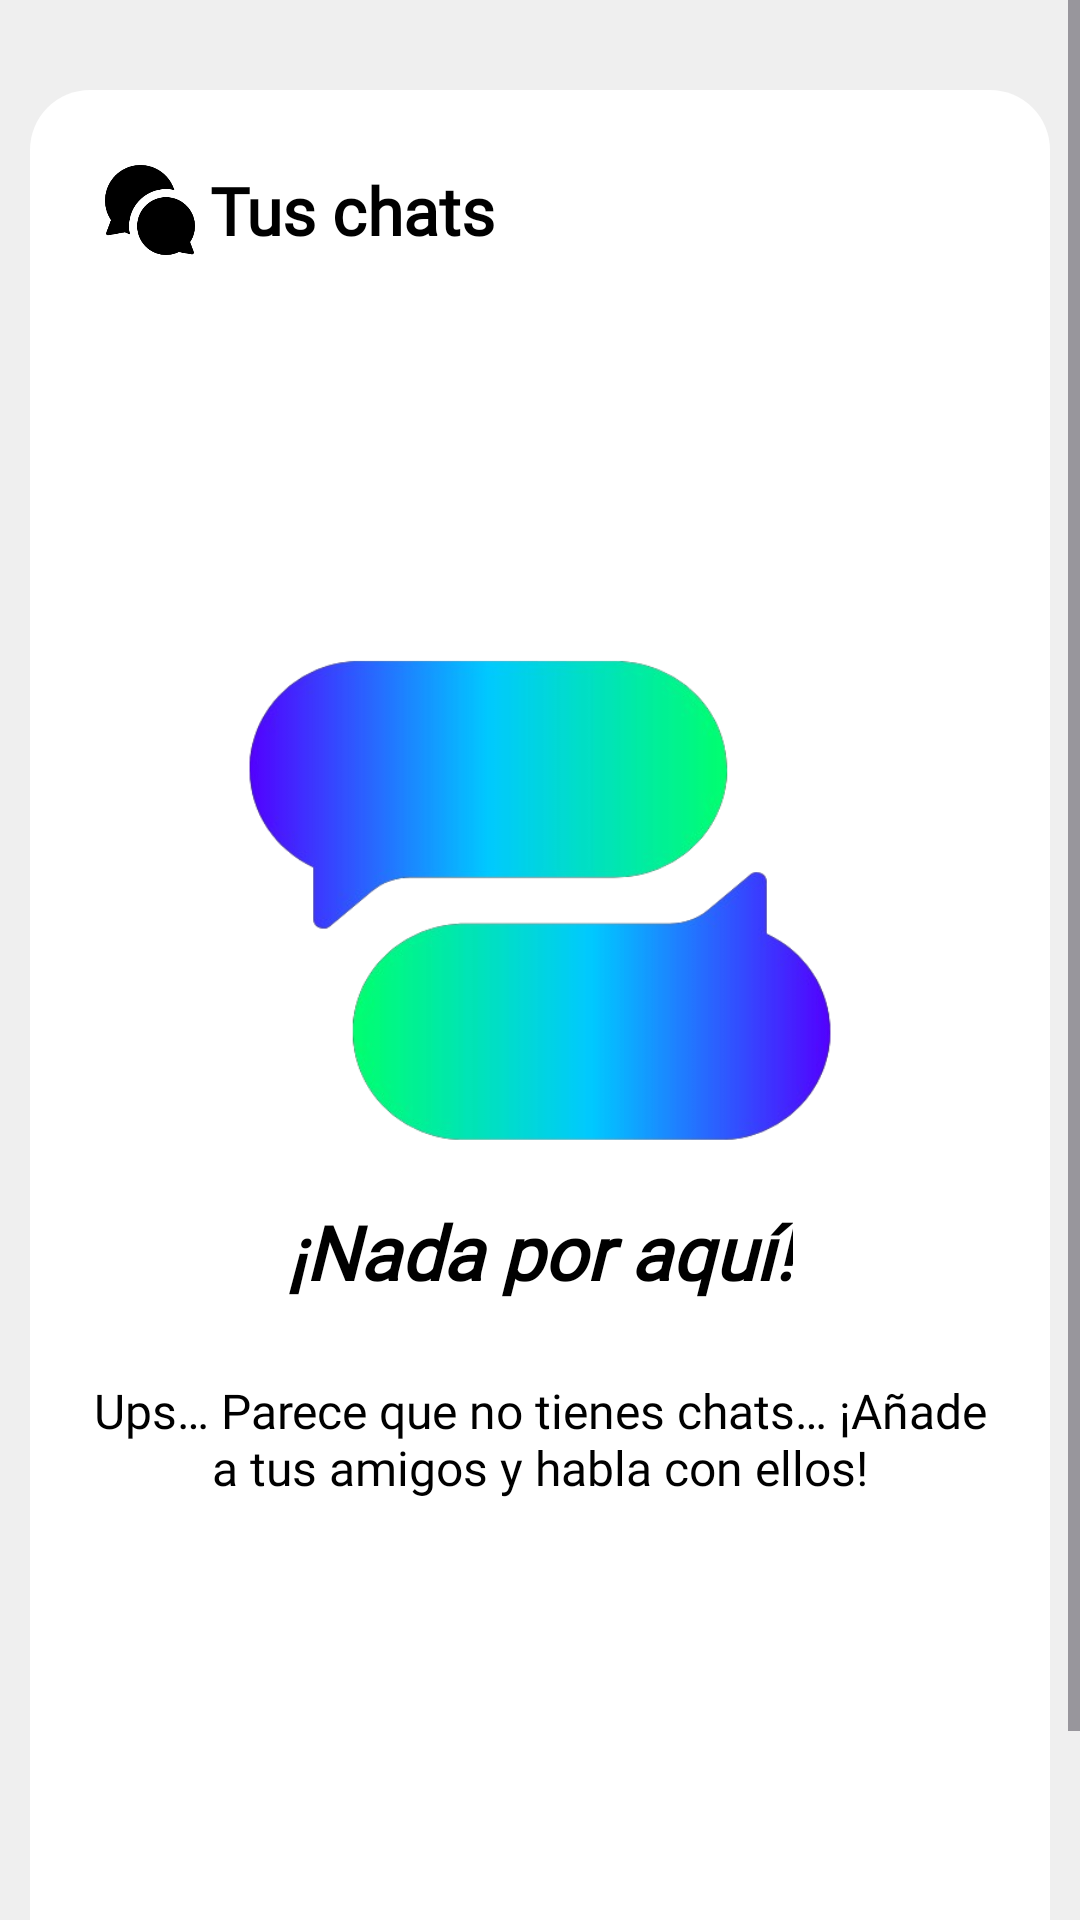

Named icons in this screenshot (1080px×1920px) and their centers, (x=x, y=y):
your chats: (x=150, y=210)
